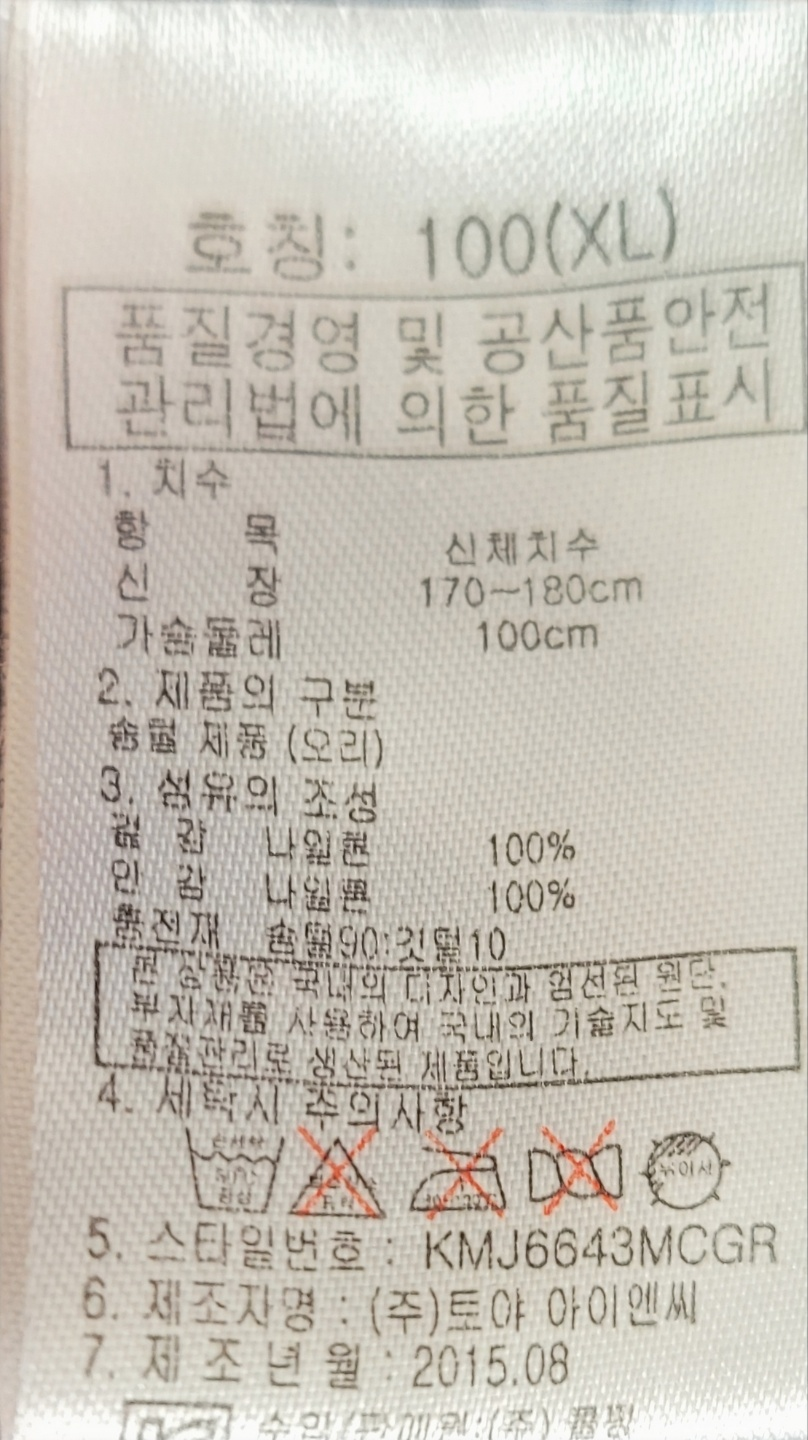KR_flat_dry_in_shade: (637, 1118, 735, 1216)
KR_hand_wash_30_neutral: (178, 1122, 288, 1221)
KR_no_wring: (517, 1126, 629, 1220)
